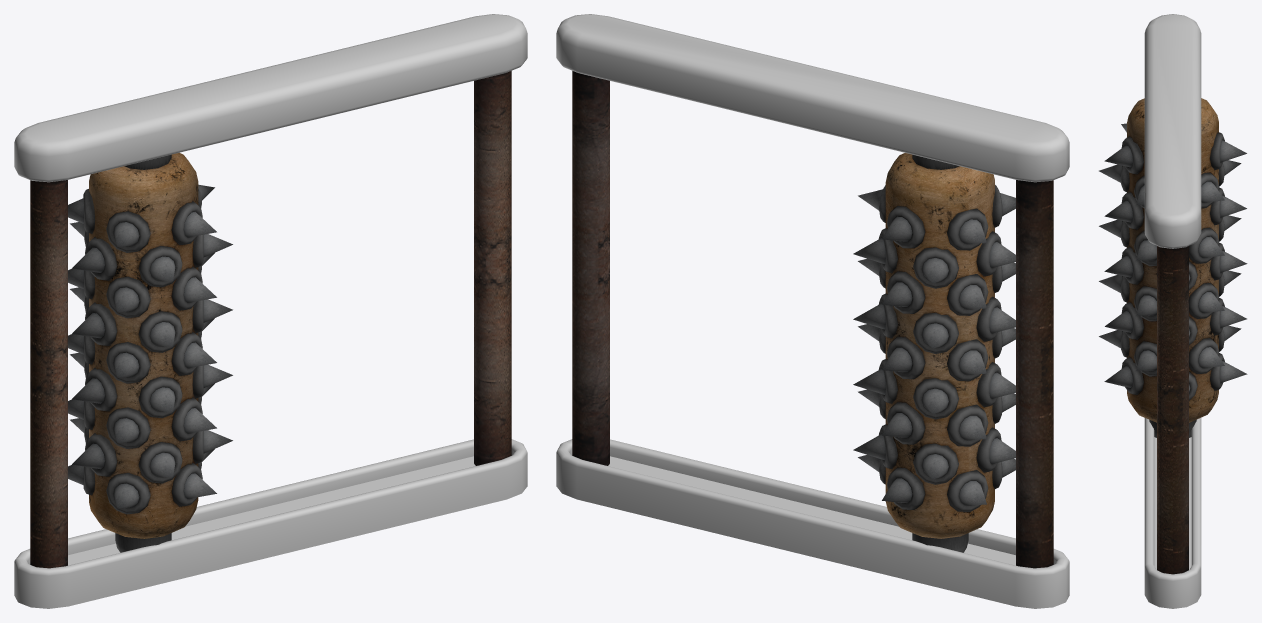
The model's file is Obstacle-15.fbx.
3 views of the same model, side by side, from view 1: azimuth 30°, elevation 25°; view 2: azimuth 150°, elevation 25°; view 3: azimuth 270°, elevation 25° (orthographic). The views are drawn at different scales.
Visible parts, largest first — view 1: Obstacle-15-Cover, Obstacle-15; view 2: Obstacle-15-Cover, Obstacle-15; view 3: Obstacle-15-Cover, Obstacle-15.
Boxes of the visible parts, x1,y1,x2,y2 form: Obstacle-15-Cover: (14, 14, 527, 608); Obstacle-15: (68, 152, 232, 552); Obstacle-15-Cover: (556, 14, 1069, 608); Obstacle-15: (853, 153, 1015, 552); Obstacle-15-Cover: (1144, 14, 1201, 608); Obstacle-15: (1099, 98, 1247, 437).
Bounding box in the file's own units: 2.17 × 1.89 × 0.6562.
